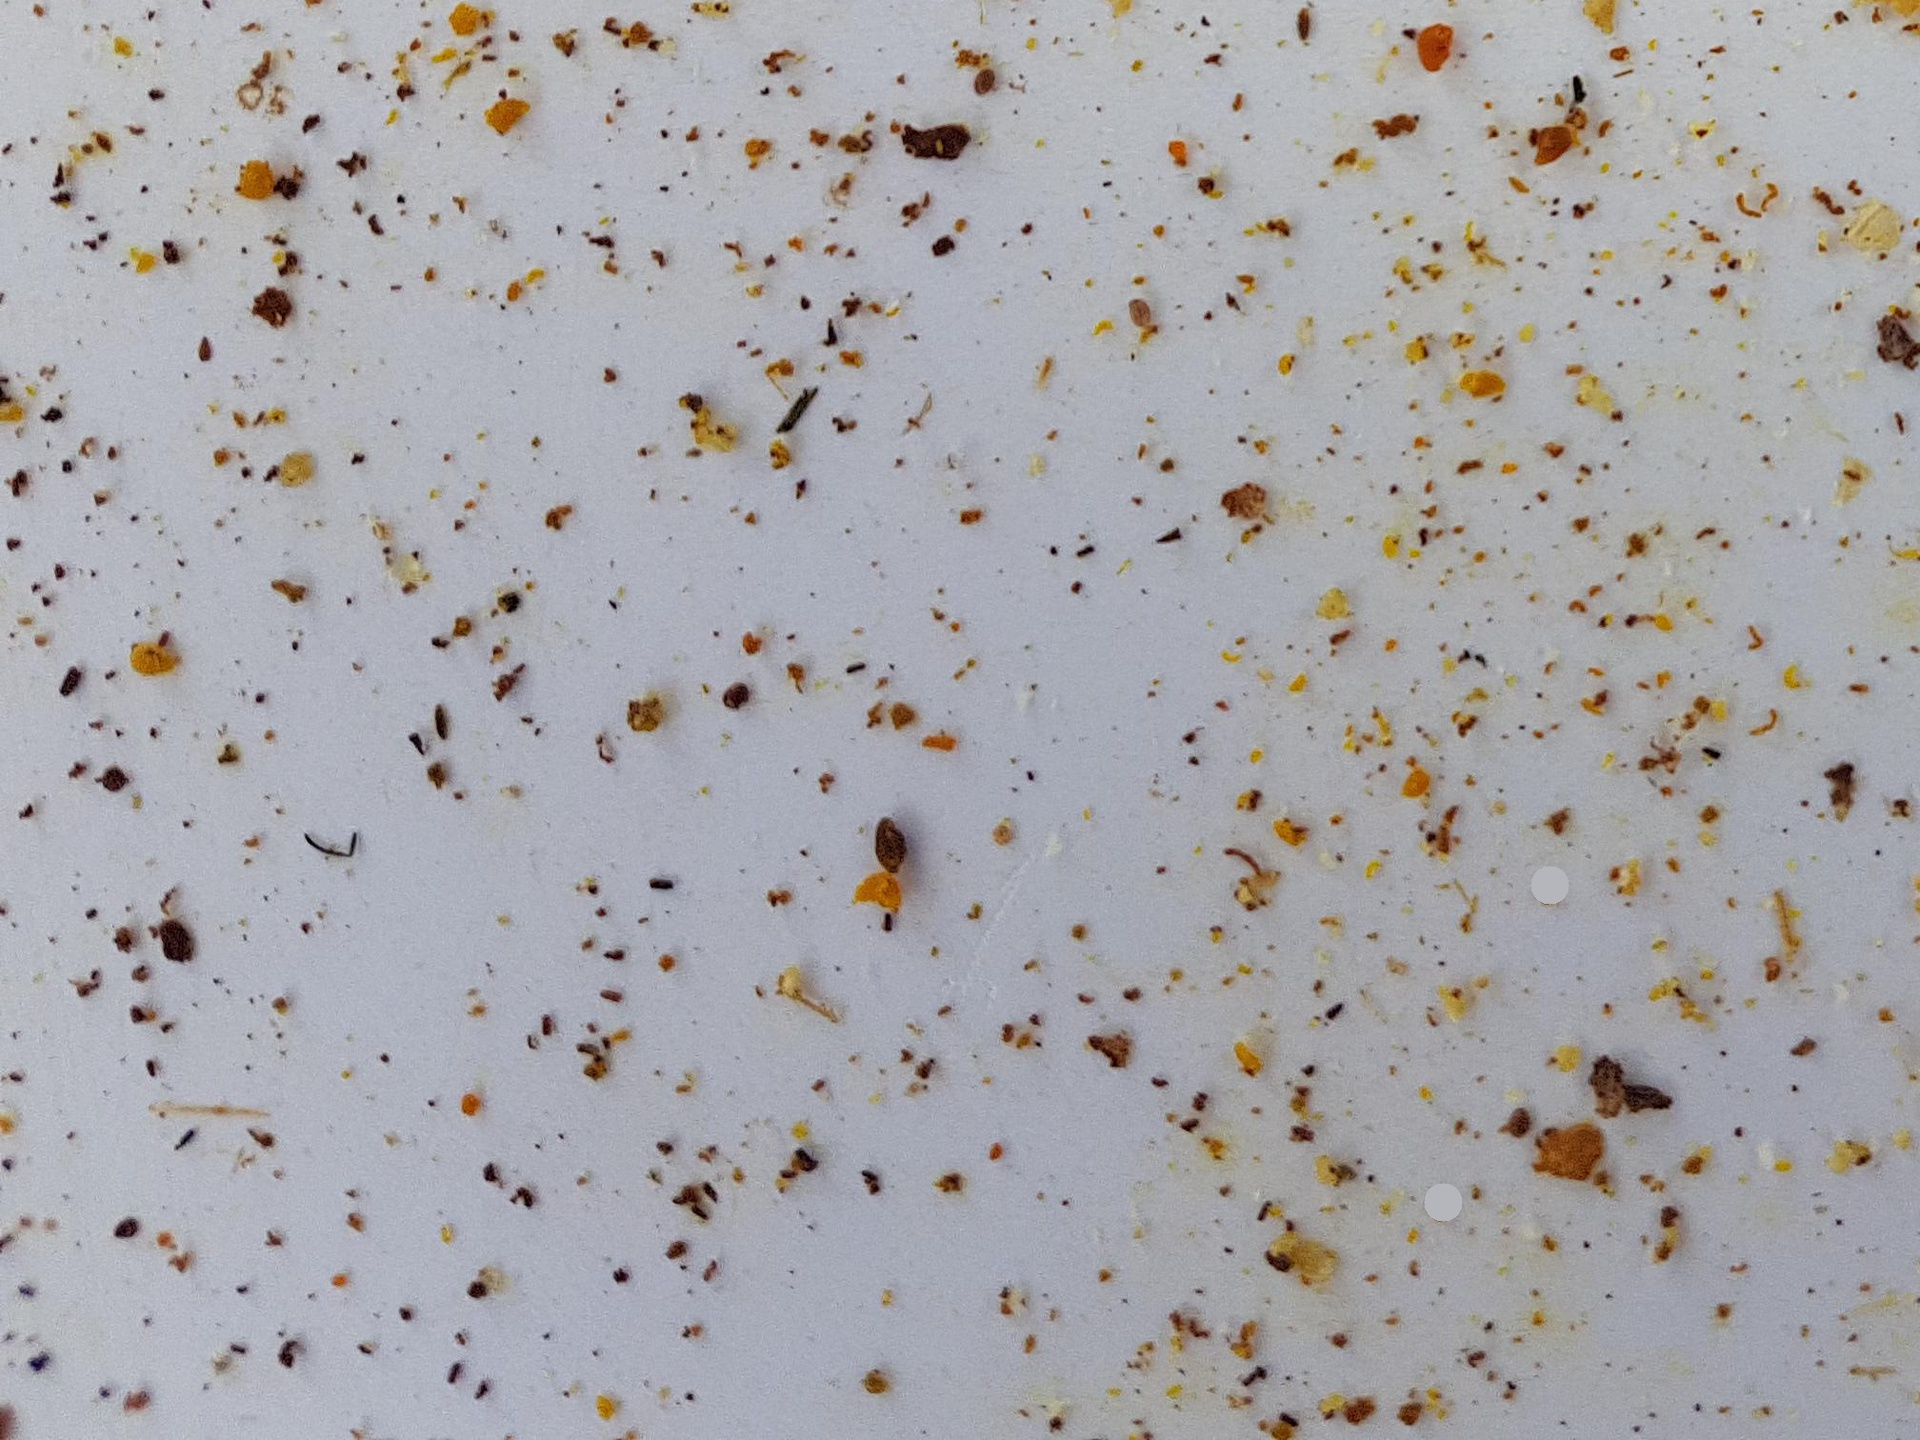Varroa: (955, 54, 999, 101), (717, 667, 759, 714), (1491, 1100, 1530, 1141)
